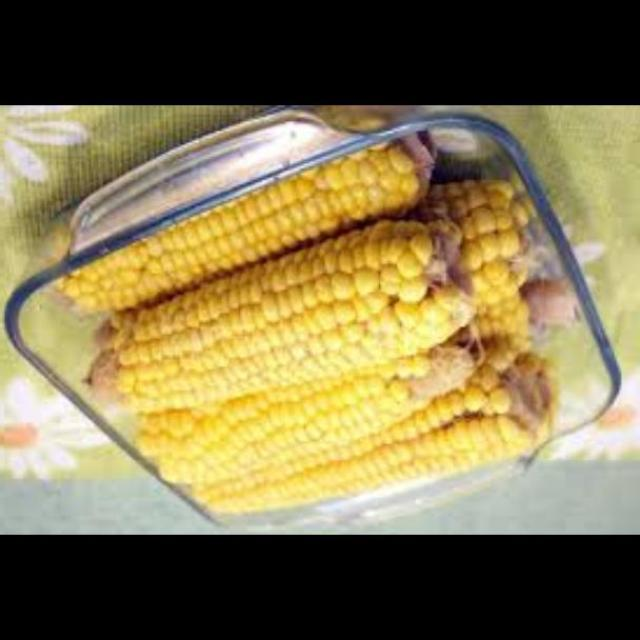corn: (82, 214, 476, 432), (62, 128, 440, 322), (187, 352, 550, 536), (142, 322, 484, 496), (442, 177, 560, 360)
